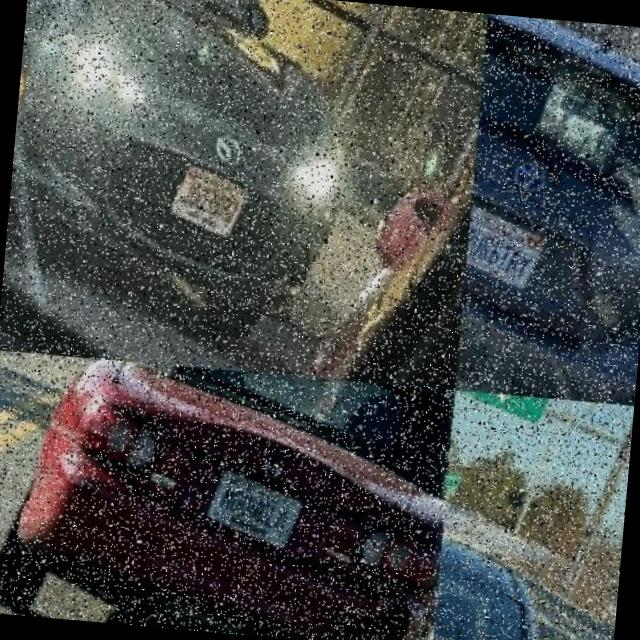LicensePlate: (209, 465, 309, 547), (466, 202, 553, 288), (173, 161, 256, 236)
